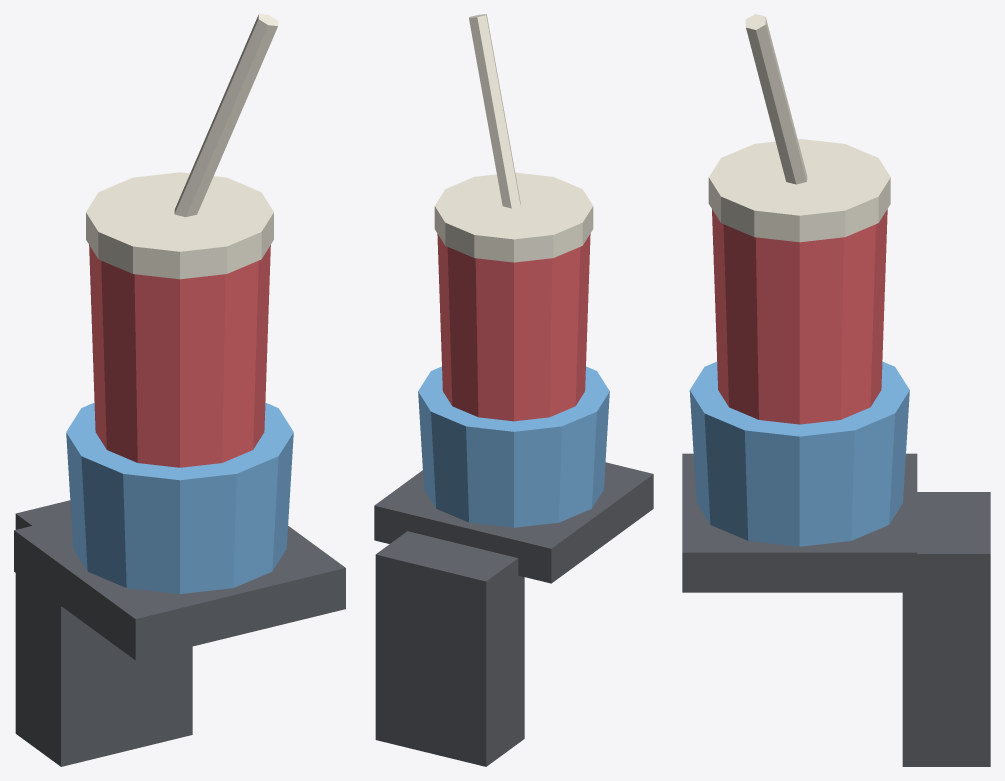
The model's file is lawn-mowing-simulator-kit-drink-holder-with-cup-2c041ef3__27362.glb.
3 views of the same model, side by side, from view 1: azimuth 30°, elevation 25°; view 2: azimuth 150°, elevation 25°; view 3: azimuth 270°, elevation 25° (orthographic). The views are drawn at different scales.
Visible parts, largest first — view 1: drink-holder-with-cup; view 2: drink-holder-with-cup; view 3: drink-holder-with-cup.
Part boxes in pixels (left/top/right/bottom): drink-holder-with-cup: left=14, top=14, right=345, bottom=766; drink-holder-with-cup: left=374, top=14, right=653, bottom=766; drink-holder-with-cup: left=682, top=14, right=990, bottom=766.
Size of the model in its own units: 0.16 by 0.5625 by 0.21.
